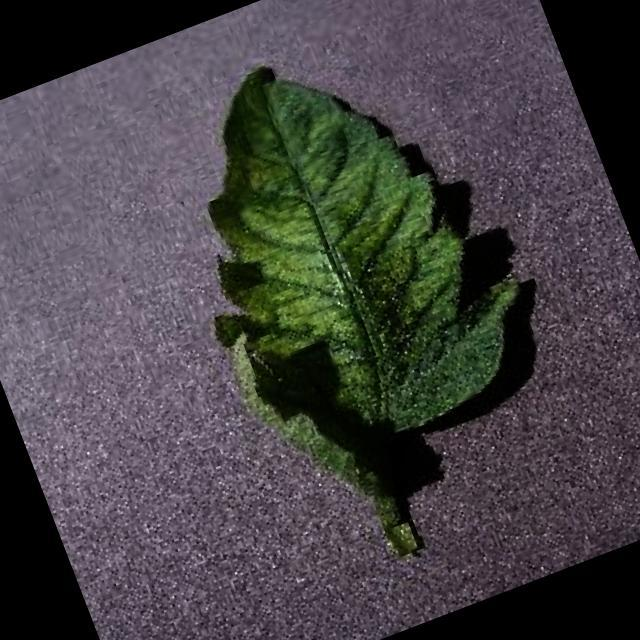Tomato mosaic virus leaf: (125, 8, 550, 481)
